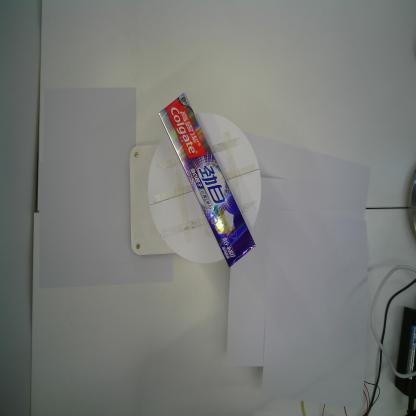Personal Hygiene: (158, 90, 258, 268)
